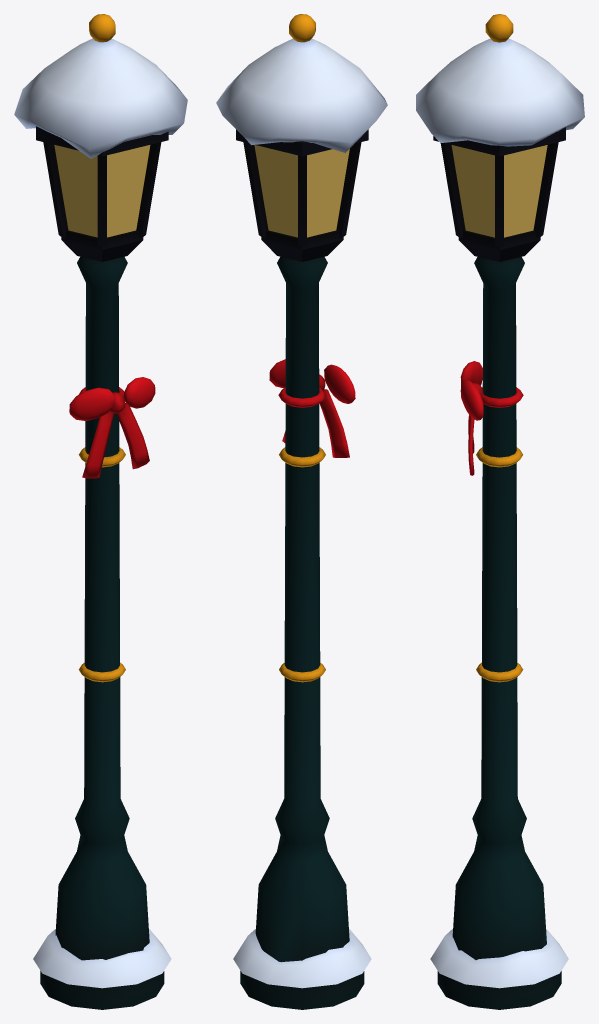
The model's file is Lamp_Snowy.fbx.
The picture shows the model from 3 angles, left to right: view 1: azimuth 30°, elevation 25°; view 2: azimuth 150°, elevation 25°; view 3: azimuth 270°, elevation 25°; orthographic projection.
Visible parts, largest first — view 1: Lamp_Snowy, LampHead; view 2: Lamp_Snowy, LampHead; view 3: Lamp_Snowy, LampHead.
Boxes of the visible parts, x1,y1,x2,y2 form: Lamp_Snowy: (33, 256, 171, 1009); LampHead: (14, 14, 187, 261); Lamp_Snowy: (233, 256, 371, 1009); LampHead: (216, 14, 387, 261); Lamp_Snowy: (430, 257, 568, 1009); LampHead: (416, 14, 584, 261).
Bounding box in the file's own units: 0.4718 × 2.93 × 0.4631.
